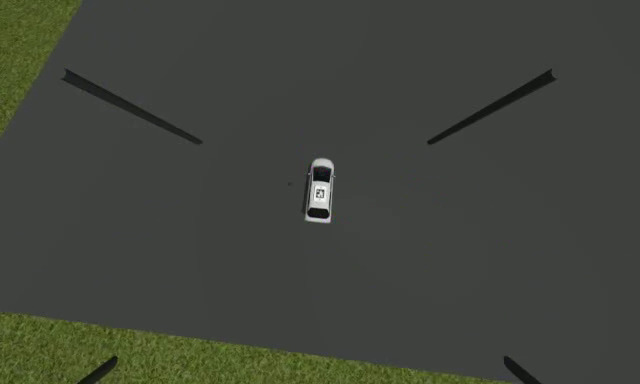Car: (304, 157, 337, 227)
Landing Pad: (313, 184, 328, 205)
